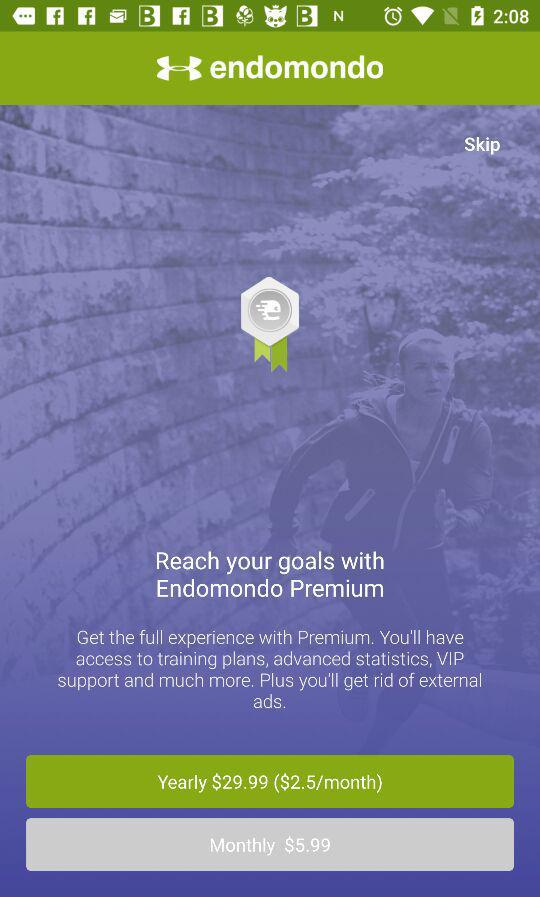BackgroundImage: (1, 106, 540, 897)
Image: (157, 56, 384, 83), (241, 277, 300, 372)
Text: (57, 629, 482, 710), (157, 550, 385, 599), (464, 137, 501, 156)
TextButton: (27, 818, 515, 872), (27, 755, 515, 809)
Toolbar: (1, 31, 540, 106)
UpperTaskBar: (1, 1, 540, 33)
